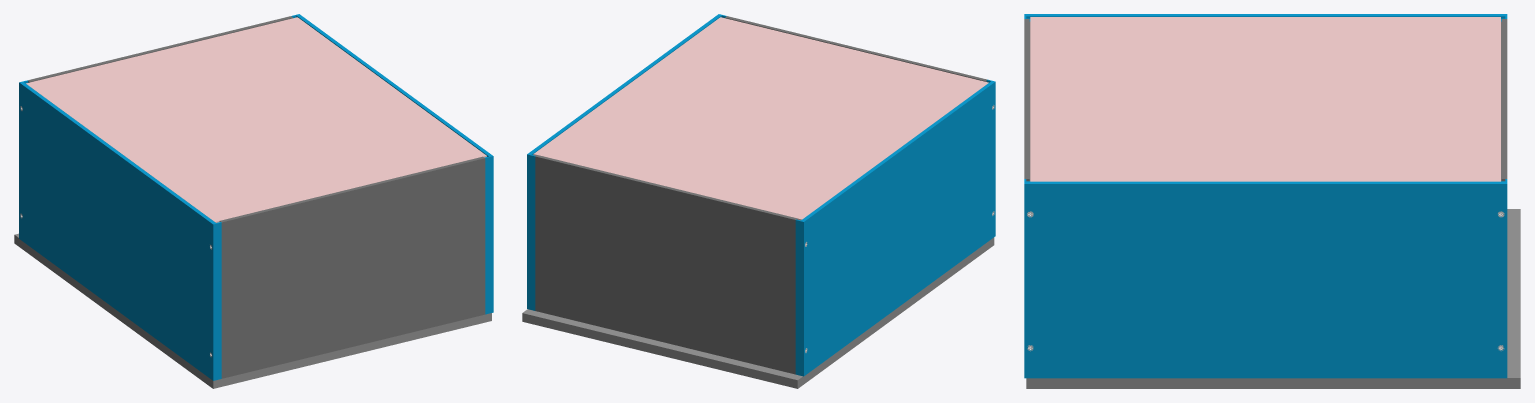
Rendered from PERSP.glb.
3 renders of one model, left to right at view 1: azimuth 30°, elevation 25°; view 2: azimuth 150°, elevation 25°; view 3: azimuth 270°, elevation 25°, orthographic. The views are drawn at different scales.
Visible parts, largest first — view 1: *MODEL_SPACE; view 2: *MODEL_SPACE; view 3: *MODEL_SPACE.
Part boxes in pixels (x1,y1,x2,y2): *MODEL_SPACE: (14, 14, 493, 388); *MODEL_SPACE: (522, 14, 995, 388); *MODEL_SPACE: (1024, 14, 1520, 388).
Size of the model in its own units: 0.6 by 0.338 by 0.74.
